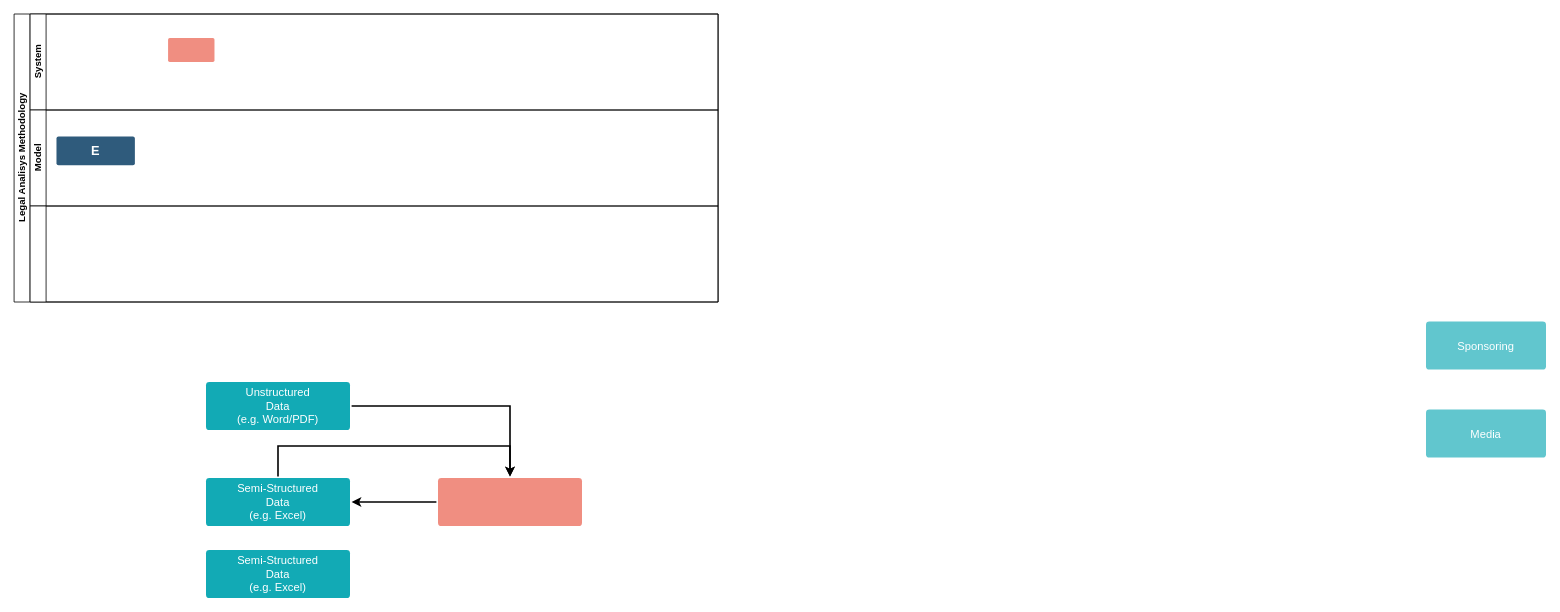
Some shapes in this 1560 by 612 pixel diagram are drawn without their labels. The shapes that lost their labels are listed below. From the top down, each one's centre as x and y in pixels, then its label:
point (191, 50): Excel
point (373, 253): Data
point (510, 502): Curation & Structuring
